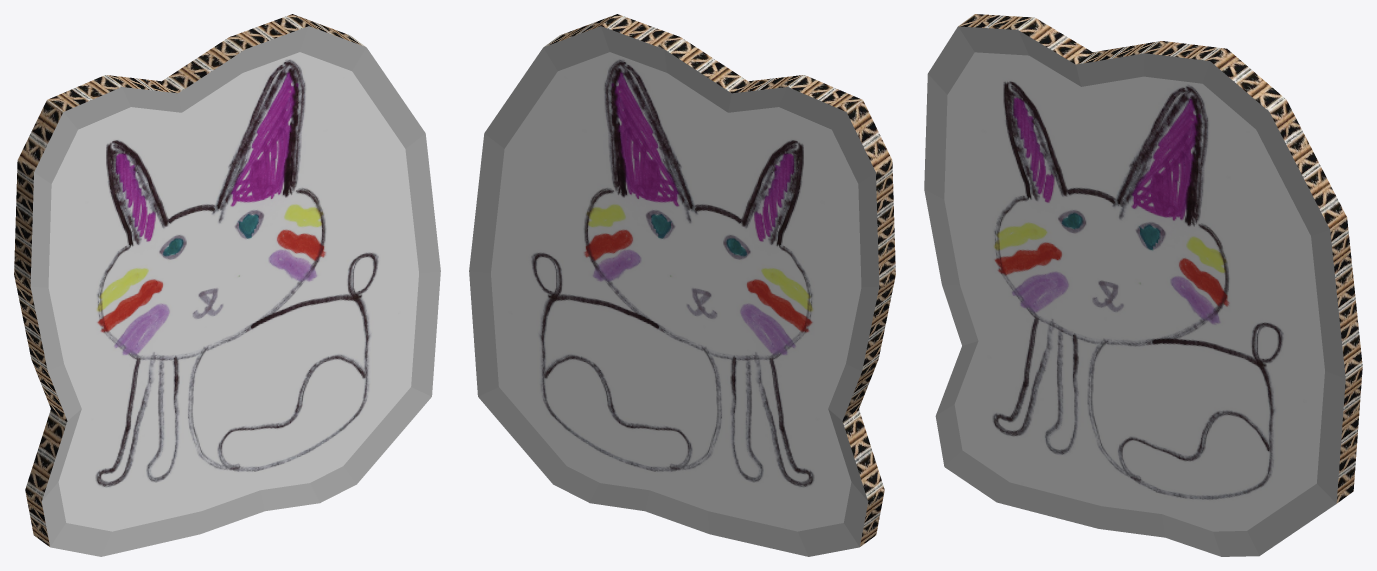
File: SateenkaariKani.fbx
The picture shows the model from 3 angles, left to right: view 1: azimuth 30°, elevation 25°; view 2: azimuth 150°, elevation 25°; view 3: azimuth 330°, elevation 25°; orthographic projection. The views are drawn at different scales.
Visible parts, largest first — view 1: SateenkaariKani; view 2: SateenkaariKani; view 3: SateenkaariKani.
Part boxes in pixels (<box>): SateenkaariKani: <box>14,14,440,556</box>; SateenkaariKani: <box>469,14,895,556</box>; SateenkaariKani: <box>924,14,1362,556</box>.
Bounding box in the file's own units: 187 × 210 × 13.03.
